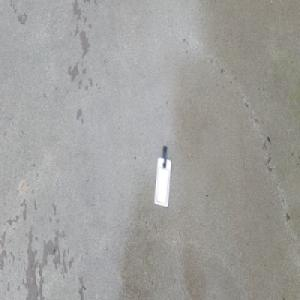LuggageTag: (153, 146, 172, 209)
